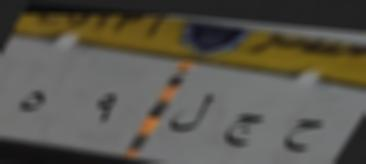5: (16, 79, 49, 126)
7aa: (280, 110, 326, 160)
9: (90, 86, 121, 131)
jeem: (221, 105, 264, 155)
laam: (168, 76, 215, 146)
